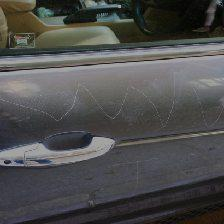door_scratch: (10, 63, 218, 140)
